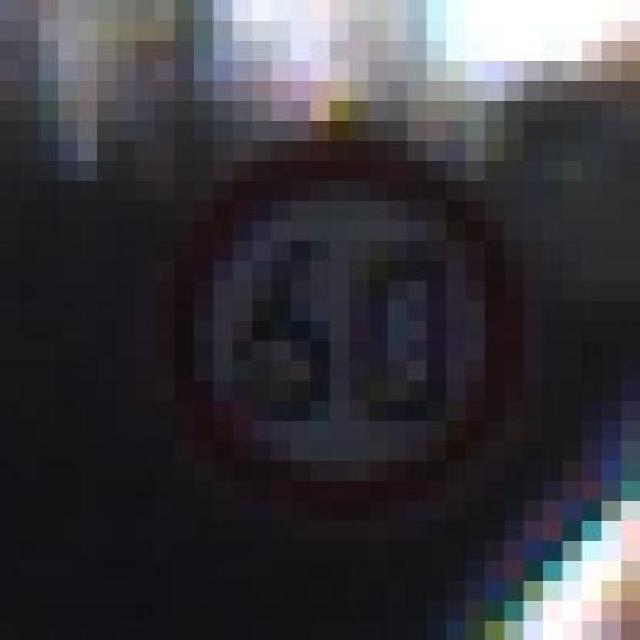forb_speed_over_60: (177, 151, 506, 509)
